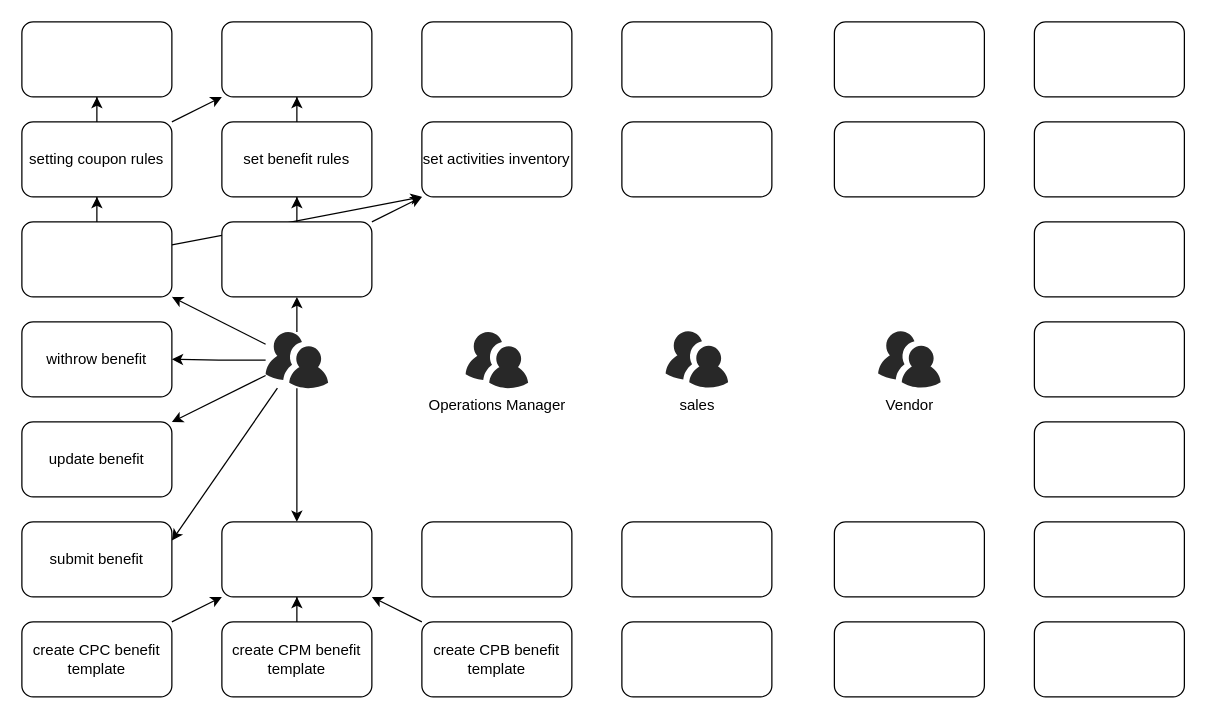
This 1206x719 diagram has some shape labels left out. Here are the shapes that lost their labels. From the top down, the centre of each, then its label:
(x=96, y=59): setting price range
(x=296, y=59): set benefit templete
(x=96, y=259): create coupon activities
(x=296, y=259): create benefit rules
(x=296, y=359): Operations
(x=296, y=559): create benefit template
